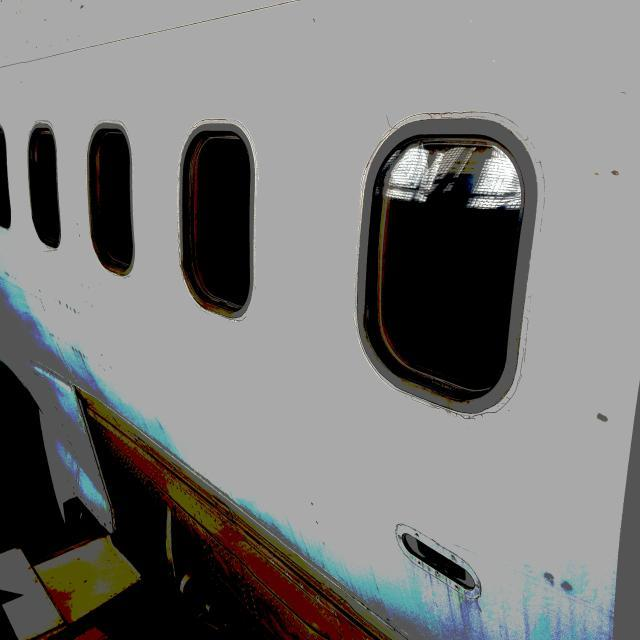crack: (375, 107, 401, 131)
